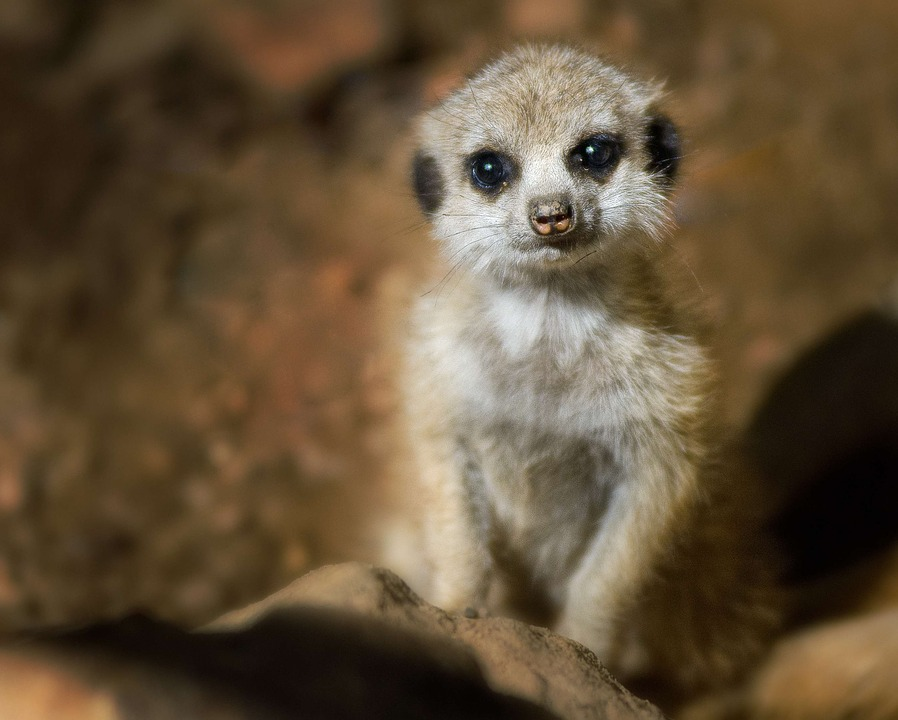meerkat: (371, 23, 799, 683)
